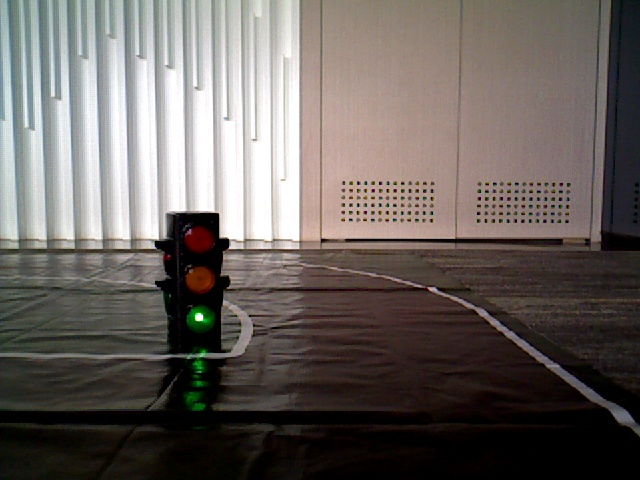green: (175, 214, 215, 336)
